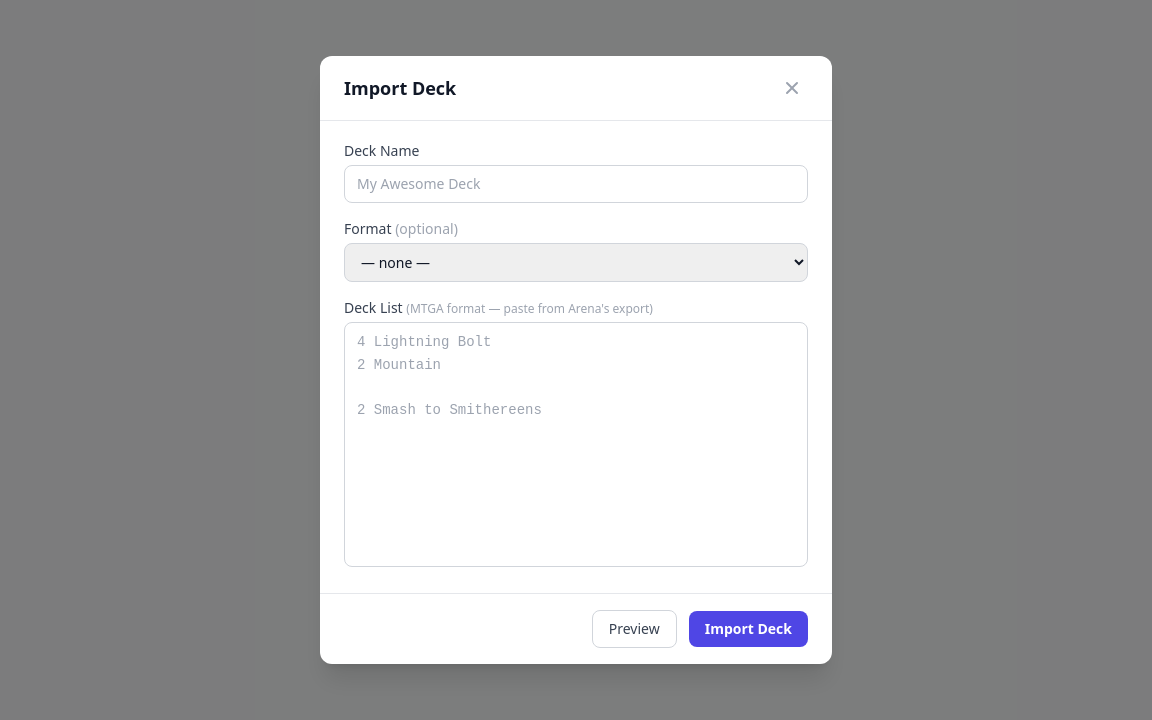
Test: ImportModal — empty textarea validation › shows a validation message when Import is clicked with empty textarea
The width and height of the screenshot is (1152, 720).
Type "My Deck" into the field with test id "import-deck-name" at (576, 184), box [344,165,808,203]
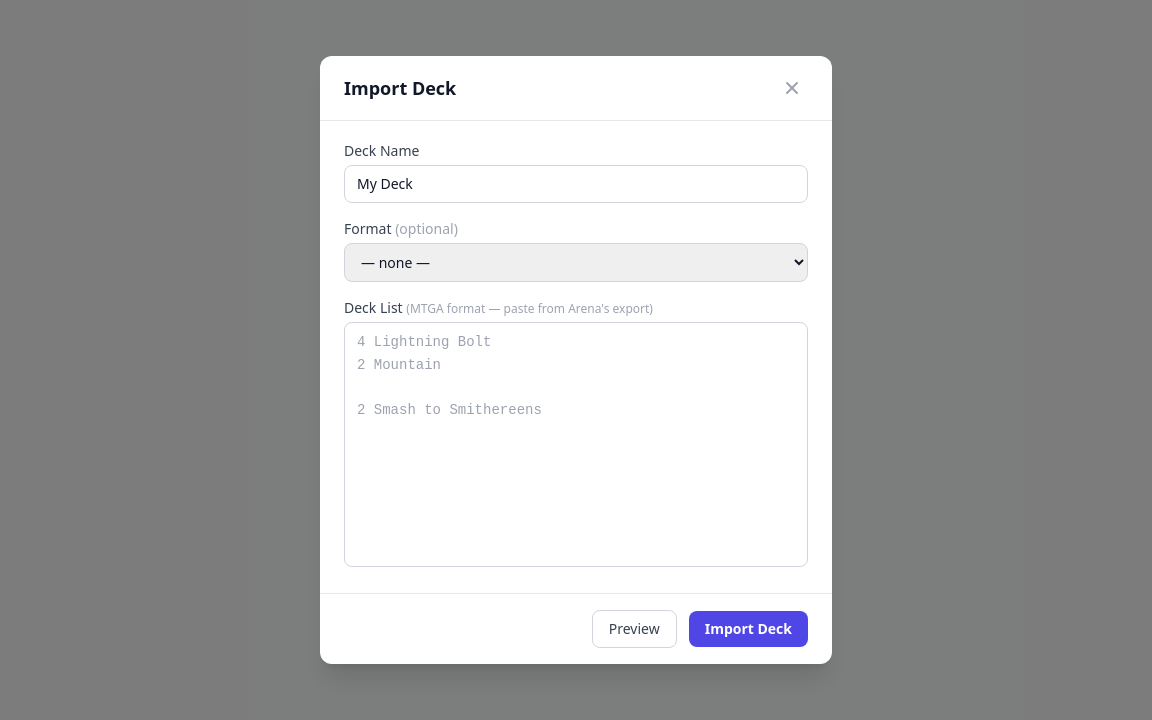
Click the button with test id "import-submit-button" at (748, 629), box [689,611,808,647]
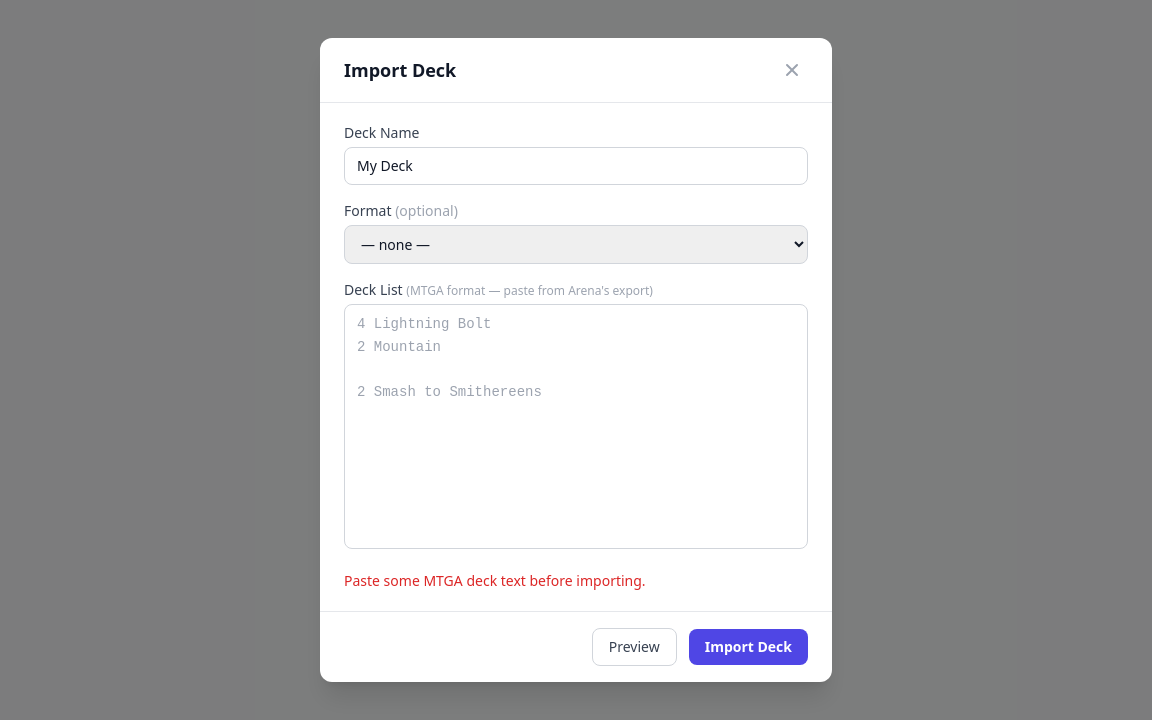
Result: the message "Paste some MTGA deck text before importing." is shown at [344,571,646,590]
